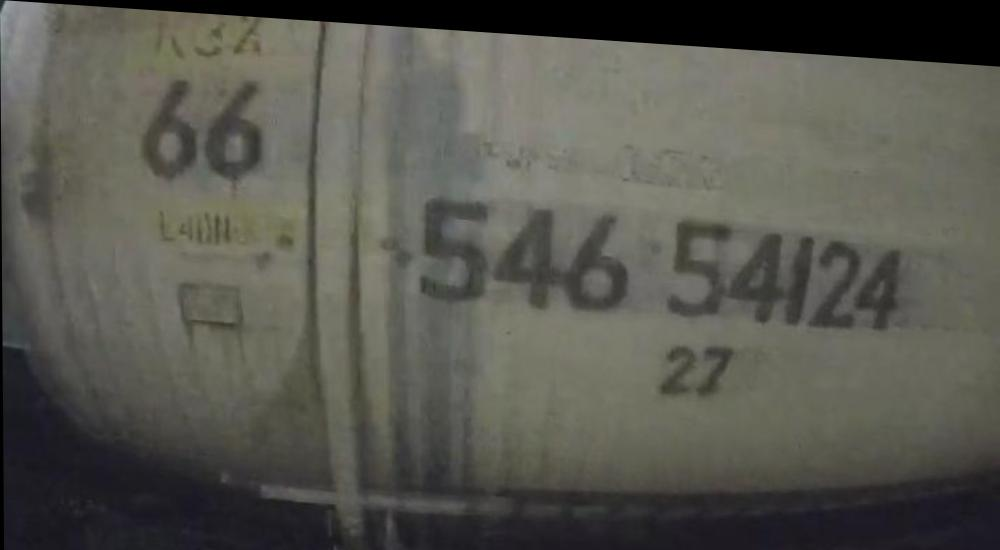Wagon-number: (415, 185, 907, 325)
